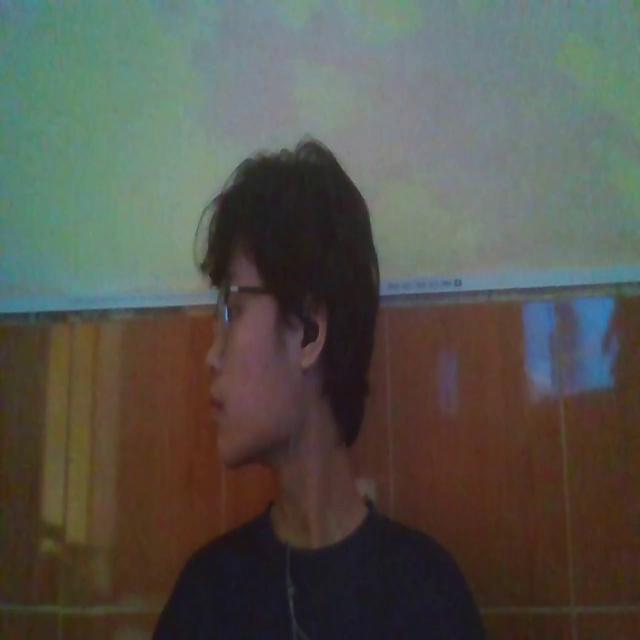student: (143, 126, 489, 640)
